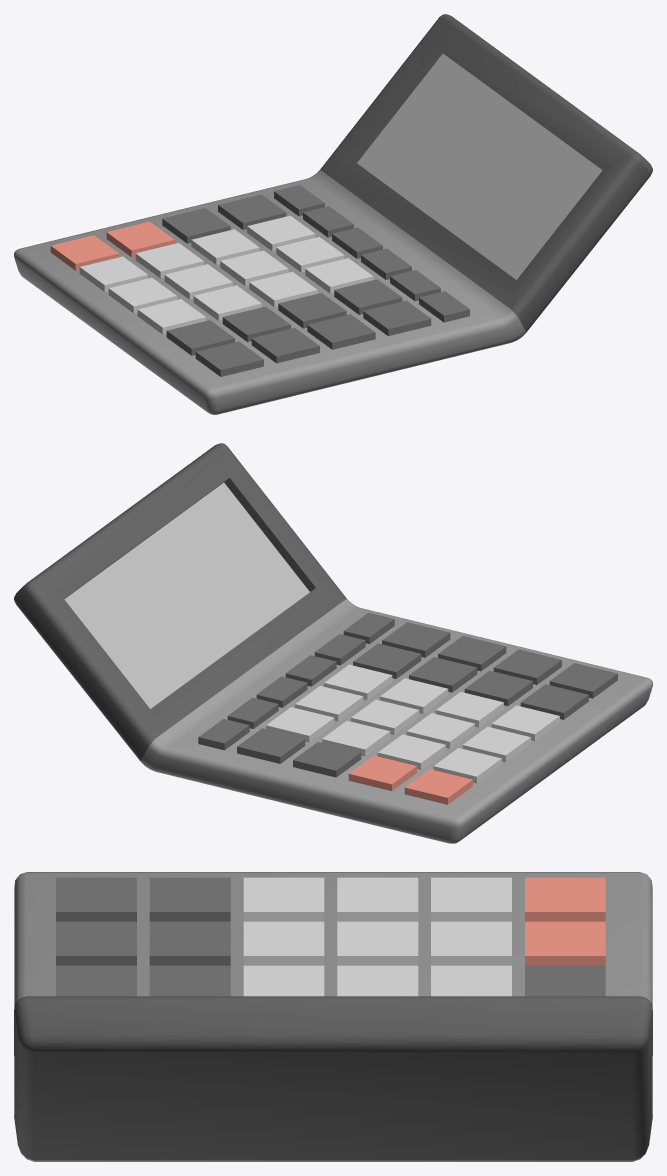
The model's file is Calculator.fbx.
3 views of the same model, one above another, from view 1: azimuth 30°, elevation 25°; view 2: azimuth 150°, elevation 25°; view 3: azimuth 270°, elevation 25° (orthographic). The views are drawn at different scales.
Parts seen in each view (by area): view 1: Calculator; view 2: Calculator; view 3: Calculator.
Part boxes in pixels (left/top/right/bottom): Calculator: left=14, top=14, right=652, bottom=414; Calculator: left=14, top=443, right=652, bottom=843; Calculator: left=14, top=872, right=652, bottom=1161.
Bounding box in the file's own units: 0.1699 × 0.1294 × 0.0578.
